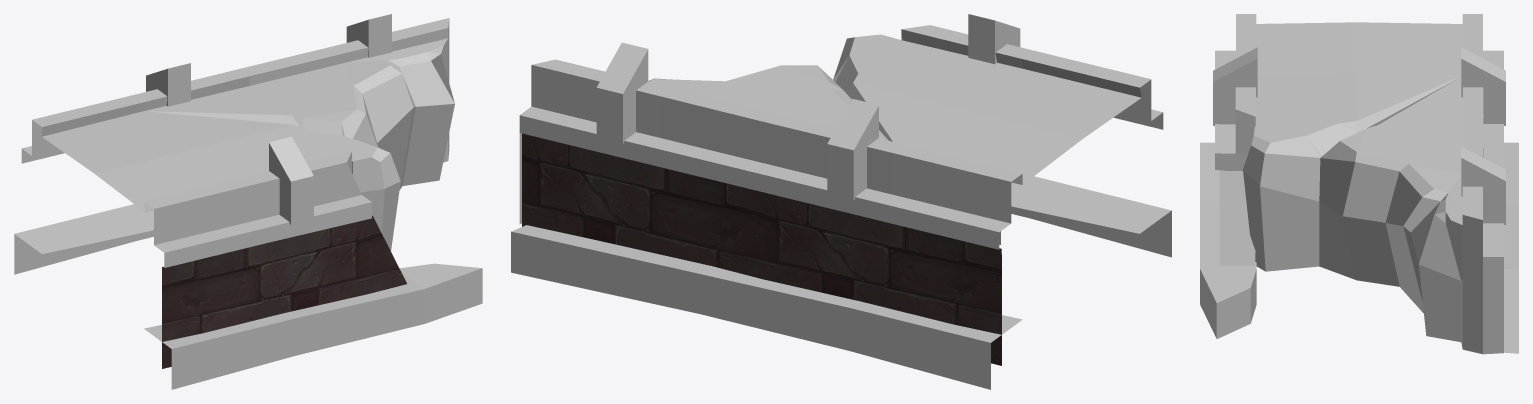
File: 10504_Nbridge03.FBX
3 views of the same model, side by side, from view 1: azimuth 30°, elevation 25°; view 2: azimuth 150°, elevation 25°; view 3: azimuth 270°, elevation 25° (orthographic). The views are drawn at different scales.
Parts seen in each view (by area): view 1: 10504_Nbridge03_1, 10504_Nbridge03_2; view 2: 10504_Nbridge03_1, 10504_Nbridge03_2; view 3: 10504_Nbridge03_1.
Part boxes in pixels (x1,y1,x2,y2): 10504_Nbridge03_1: (14, 14, 482, 389); 10504_Nbridge03_2: (162, 216, 406, 368); 10504_Nbridge03_1: (511, 14, 1171, 389); 10504_Nbridge03_2: (522, 133, 1001, 365); 10504_Nbridge03_1: (1200, 14, 1518, 354).
Bounding box in the file's own units: 1000 × 450 × 653.
